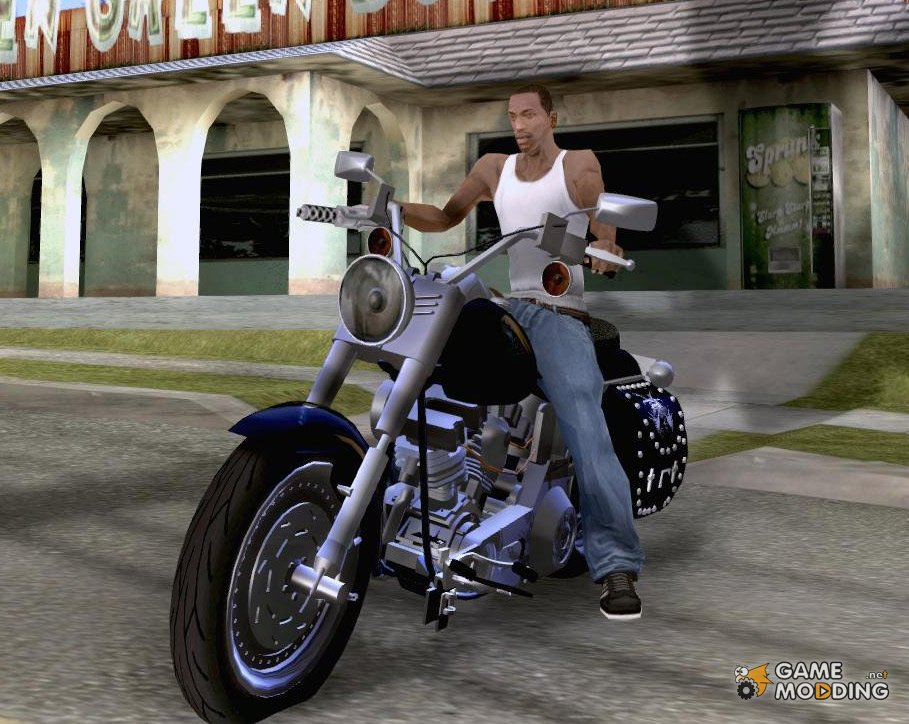bike: (210, 147, 480, 724)
